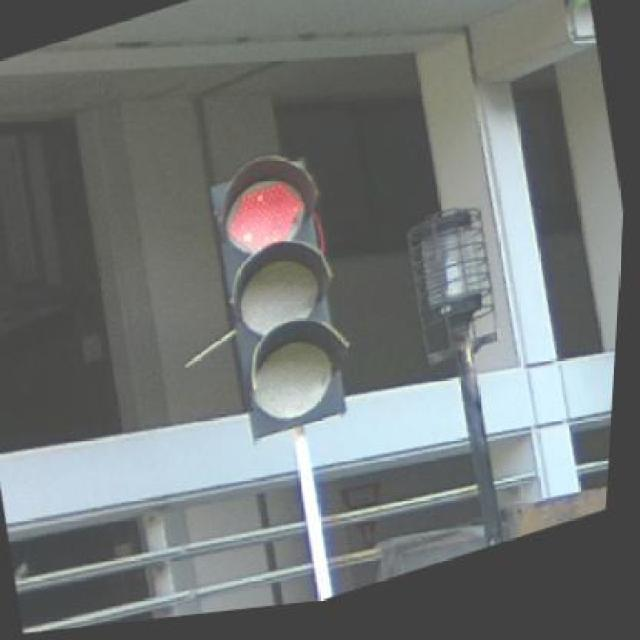Traffic Light -Red-: (202, 126, 363, 454)
